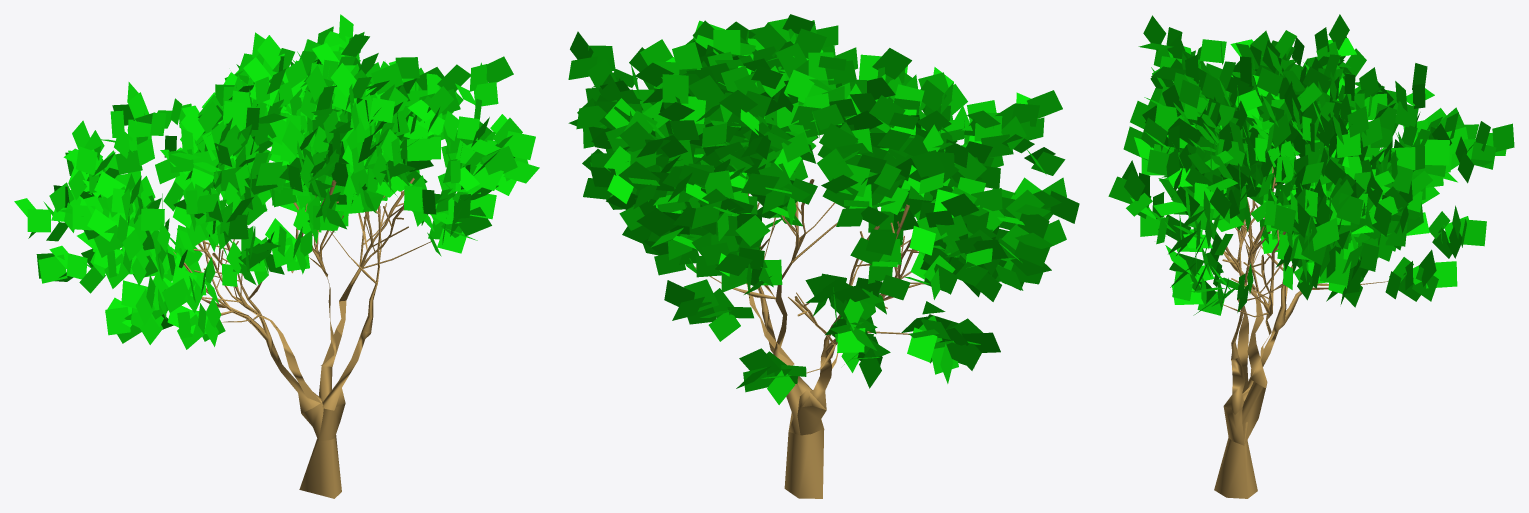
Rendered from TrädMaterial.fbx.
The picture shows the model from 3 angles, left to right: view 1: azimuth 30°, elevation 25°; view 2: azimuth 150°, elevation 25°; view 3: azimuth 270°, elevation 25°; orthographic projection. The views are drawn at different scales.
Visible parts, largest first — view 1: keyakiPark1Leaf, keyakiPark1Main; view 2: keyakiPark1Leaf, keyakiPark1Main; view 3: keyakiPark1Leaf, keyakiPark1Main.
Part boxes in pixels (x1=…): keyakiPark1Leaf: x1=14, y1=14, x2=539, y2=349; keyakiPark1Main: x1=173, y1=177, x2=431, y2=498; keyakiPark1Leaf: x1=568, y1=14, x2=1079, y2=404; keyakiPark1Main: x1=694, y1=179, x2=924, y2=498; keyakiPark1Leaf: x1=1108, y1=14, x2=1514, y2=315; keyakiPark1Main: x1=1214, y1=166, x2=1388, y2=498.
Size of the model in its own units: 24.94 by 23.61 by 19.76.
